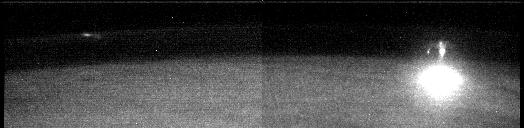positive: (426, 39, 450, 62)
